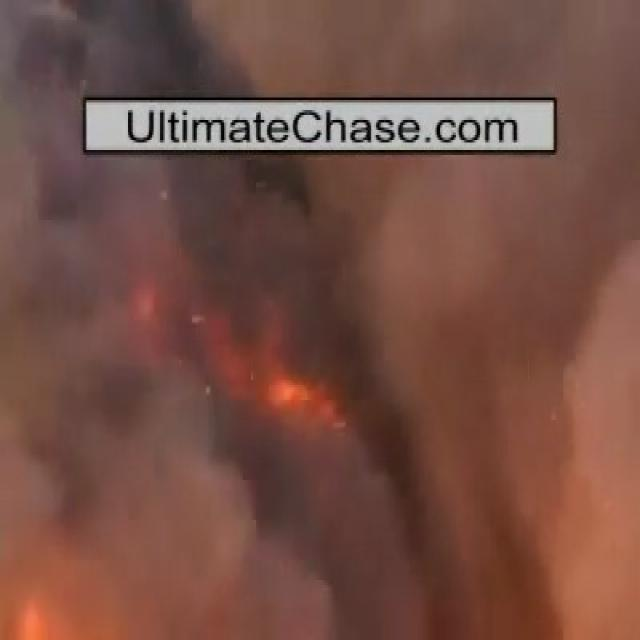smoke: (24, 167, 605, 590), (50, 3, 562, 94)
